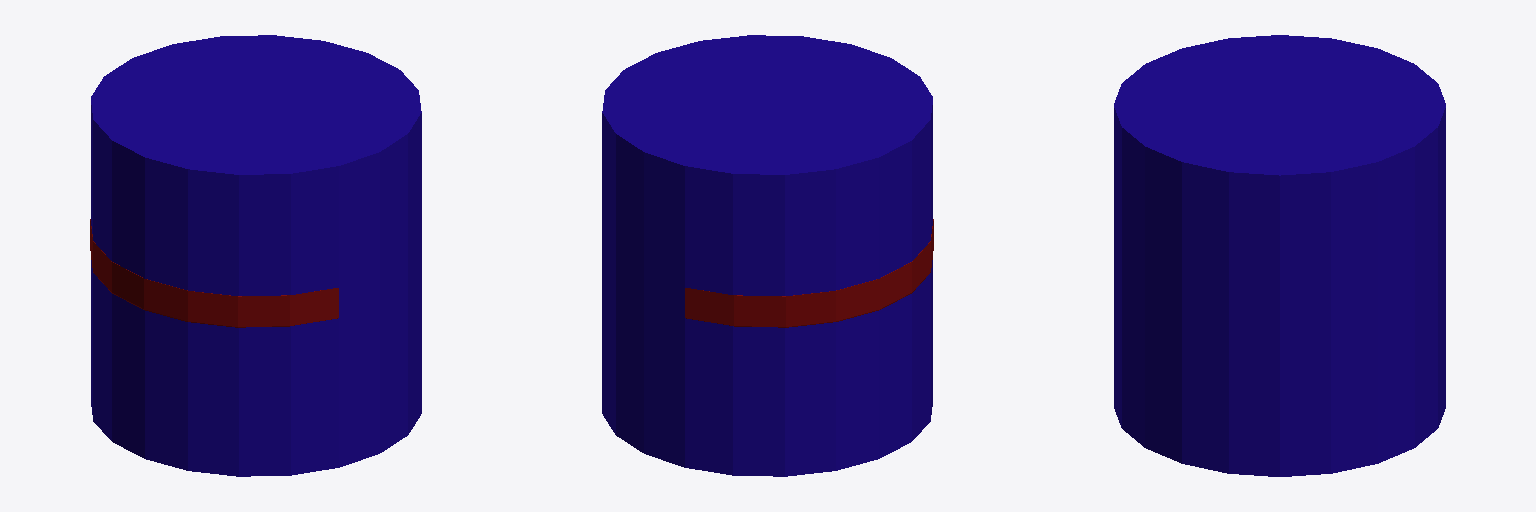
The model's file is formen.obj.
3 renders of one model, left to right at view 1: azimuth 30°, elevation 25°; view 2: azimuth 150°, elevation 25°; view 3: azimuth 270°, elevation 25°, orthographic.
Visible parts, largest first — view 1: zylinder, krug; view 2: zylinder, krug; view 3: zylinder.
Part boxes in pixels (left/top/right/bottom): zylinder: left=91, top=35, right=421, bottom=476; krug: left=90, top=219, right=338, bottom=327; zylinder: left=602, top=35, right=932, bottom=476; krug: left=685, top=219, right=933, bottom=327; zylinder: left=1114, top=35, right=1445, bottom=476.
Size of the model in its own units: 2 by 2 by 2.